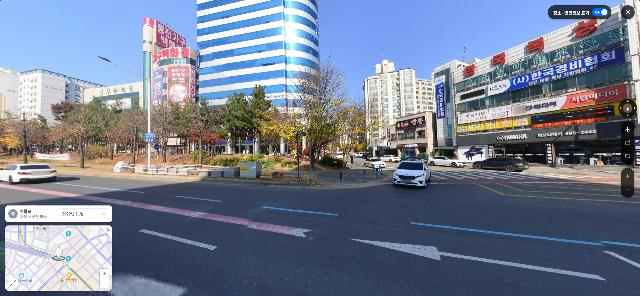ginkgo: (262, 51, 369, 168), (336, 102, 382, 166)
other: (215, 84, 278, 154), (60, 103, 108, 170), (148, 91, 190, 160), (186, 96, 220, 167), (115, 101, 152, 166), (1, 111, 46, 164)
